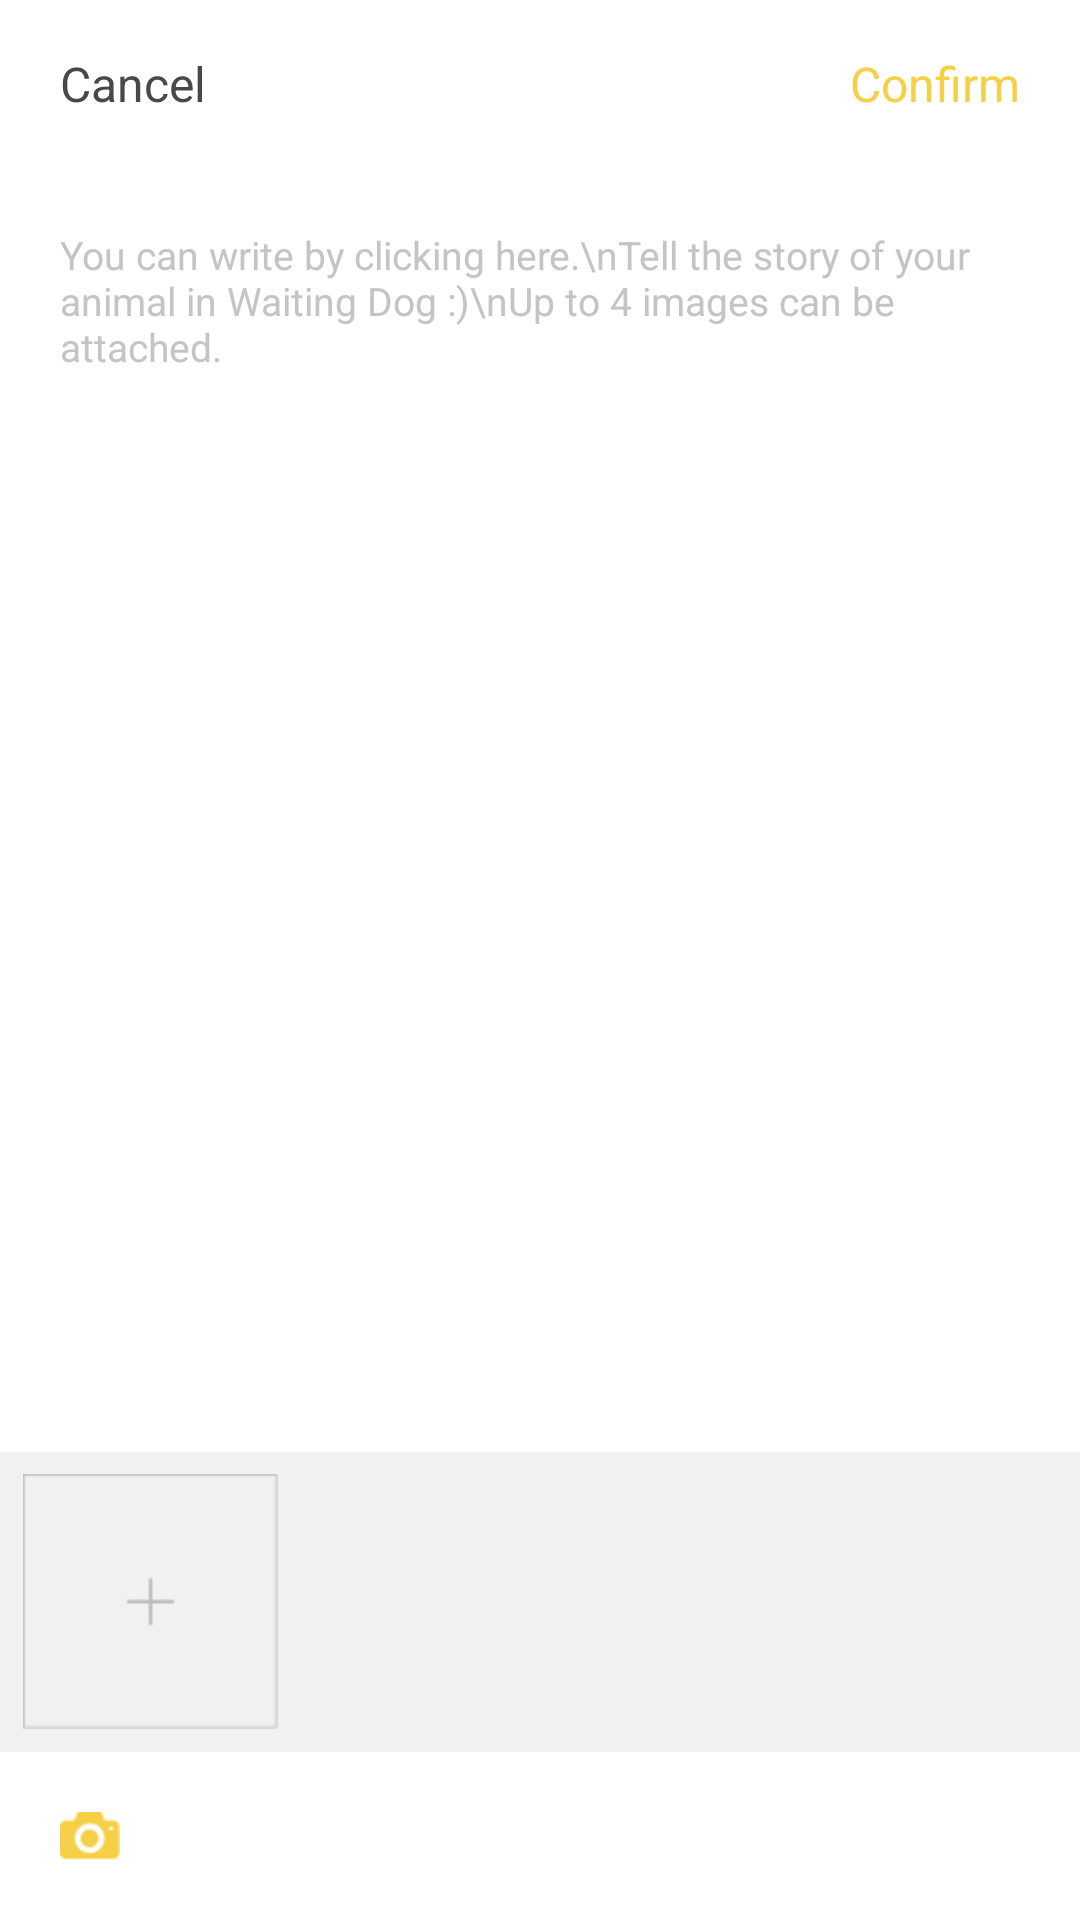

Icon click points for this 1080px×1920px phone screenshot, format (x,y):
camera: (90,1836)
writing plus: (150,1601)
